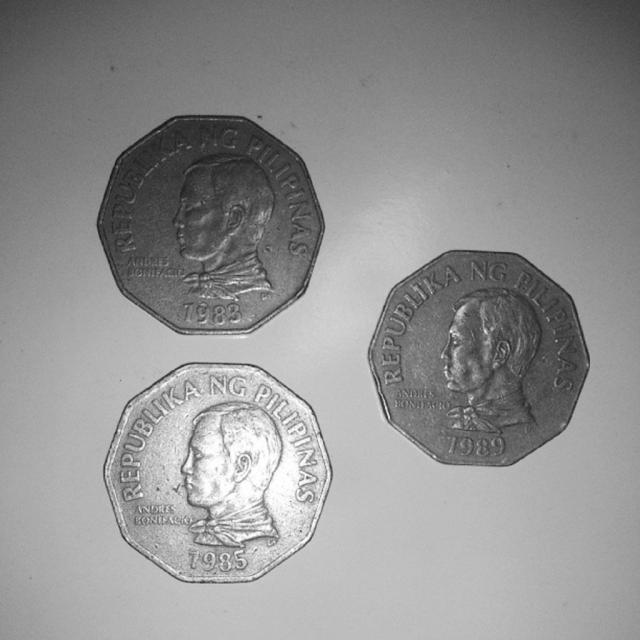Coin: (92, 113, 328, 340), (98, 360, 332, 585), (363, 245, 588, 470)
